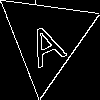A: (21, 13, 68, 68)
